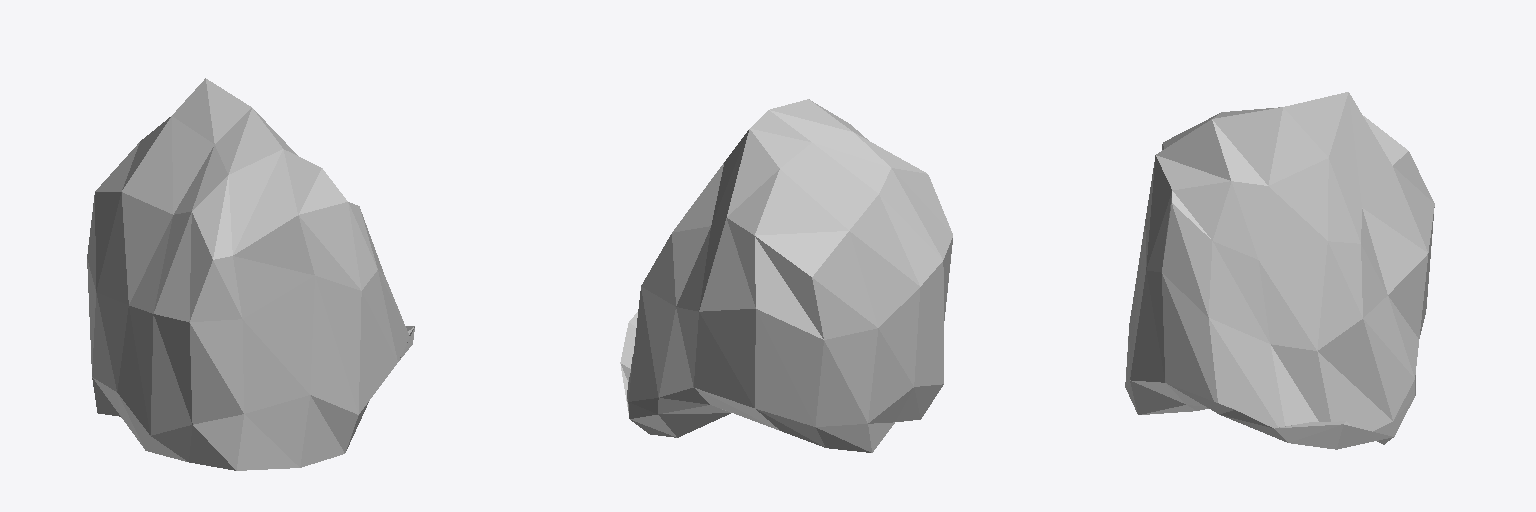
The model's file is Rock_A_01_LOD2.obj.
3 renders of one model, left to right at view 1: azimuth 30°, elevation 25°; view 2: azimuth 150°, elevation 25°; view 3: azimuth 270°, elevation 25°, orthographic.
Visible parts, largest first — view 1: Rock_A_01_LOD2_Cube.548; view 2: Rock_A_01_LOD2_Cube.548; view 3: Rock_A_01_LOD2_Cube.548.
Part boxes in pixels (left/top/right/bottom): Rock_A_01_LOD2_Cube.548: left=87, top=78, right=414, bottom=470; Rock_A_01_LOD2_Cube.548: left=620, top=99, right=952, bottom=452; Rock_A_01_LOD2_Cube.548: left=1125, top=92, right=1434, bottom=449.
Size of the model in its own units: 2.41 by 2.53 by 2.26.